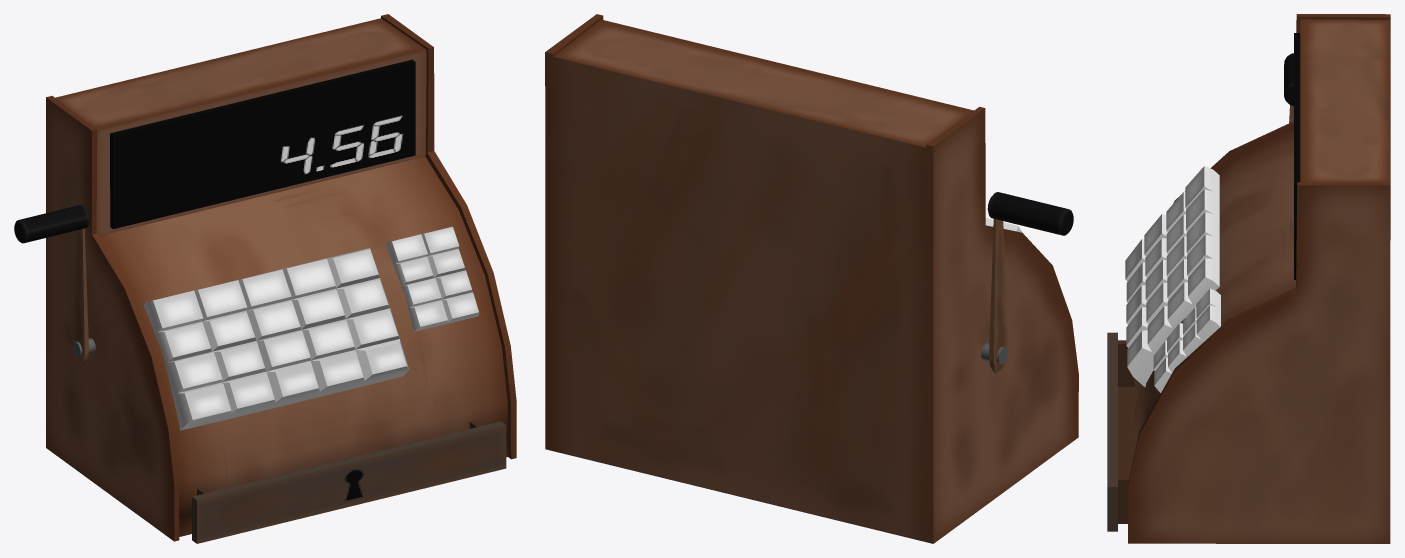
File: Kassa.fbx
3 renders of one model, left to right at view 1: azimuth 30°, elevation 25°; view 2: azimuth 150°, elevation 25°; view 3: azimuth 270°, elevation 25°, orthographic. The views are drawn at different scales.
Parts seen in each view (by area): view 1: pCube11; view 2: pCube11; view 3: pCube11.
Part boxes in pixels (box(x1,y1,x2,y2)): pCube11: box(14, 14, 516, 543); pCube11: box(545, 14, 1078, 543); pCube11: box(1107, 14, 1390, 543).
Bounding box in the file's own units: 6.06 × 4.89 × 3.5.
Materials: 1 (1 with a texture image).
